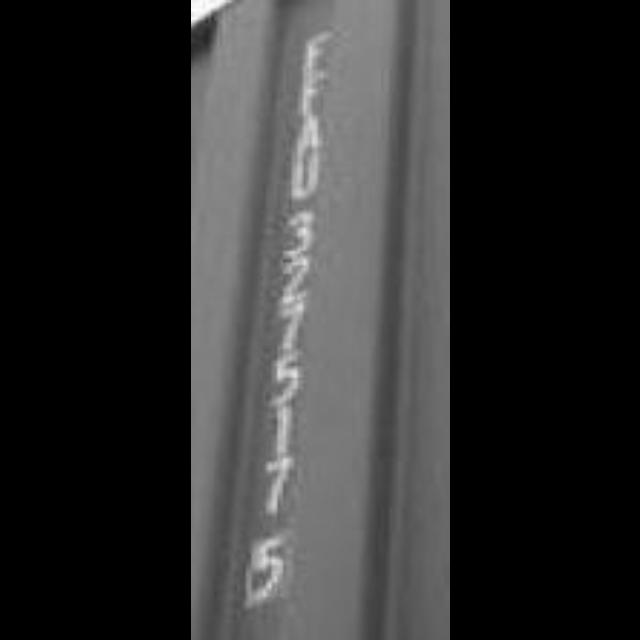1: (258, 398, 302, 454)
2: (271, 254, 319, 306)
3: (273, 201, 325, 261)
5: (244, 528, 296, 612), (266, 348, 306, 408)
7: (254, 450, 304, 518), (266, 299, 312, 351)
a: (290, 116, 324, 158)
e: (290, 30, 340, 80)
f: (287, 74, 331, 118)
u: (282, 155, 332, 209)
